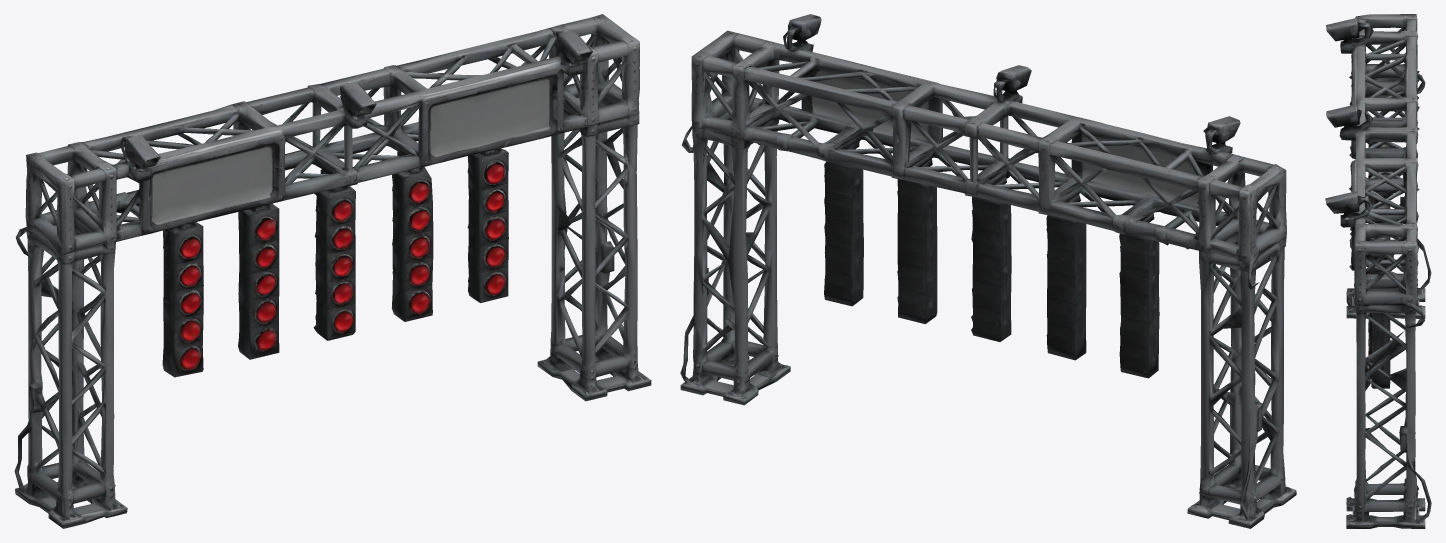
File: traffic_light_gantry.glb
3 views of the same model, side by side, from view 1: azimuth 30°, elevation 25°; view 2: azimuth 150°, elevation 25°; view 3: azimuth 270°, elevation 25° (orthographic). The views are drawn at different scales.
Visible parts, largest first — view 1: tripo_node_0b355ed7-89f4-480a-aa06-734405340172; view 2: tripo_node_0b355ed7-89f4-480a-aa06-734405340172; view 3: tripo_node_0b355ed7-89f4-480a-aa06-734405340172.
Boxes of the visible parts, x1,y1,x2,y2 form: tripo_node_0b355ed7-89f4-480a-aa06-734405340172: (14,14,651,528); tripo_node_0b355ed7-89f4-480a-aa06-734405340172: (680,14,1296,528); tripo_node_0b355ed7-89f4-480a-aa06-734405340172: (1325,14,1431,528).
Bounding box in the file's own units: 1 × 0.5999 × 0.1902.
1 material, 1 textured.
